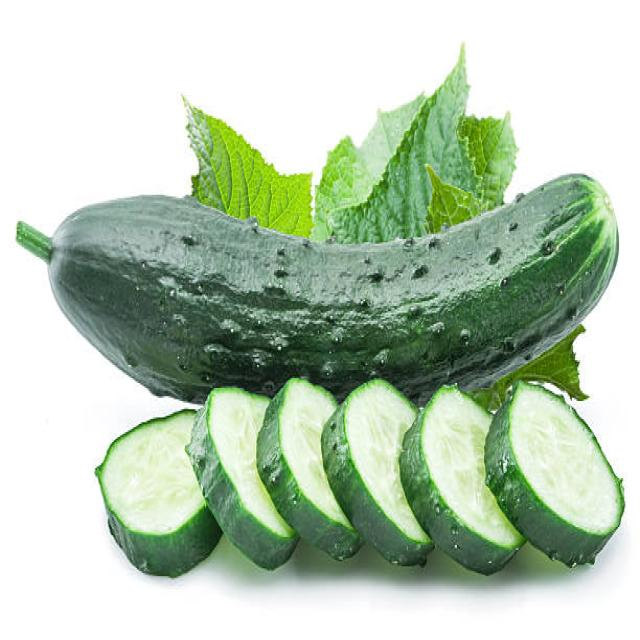cucumber: (47, 171, 619, 411)
